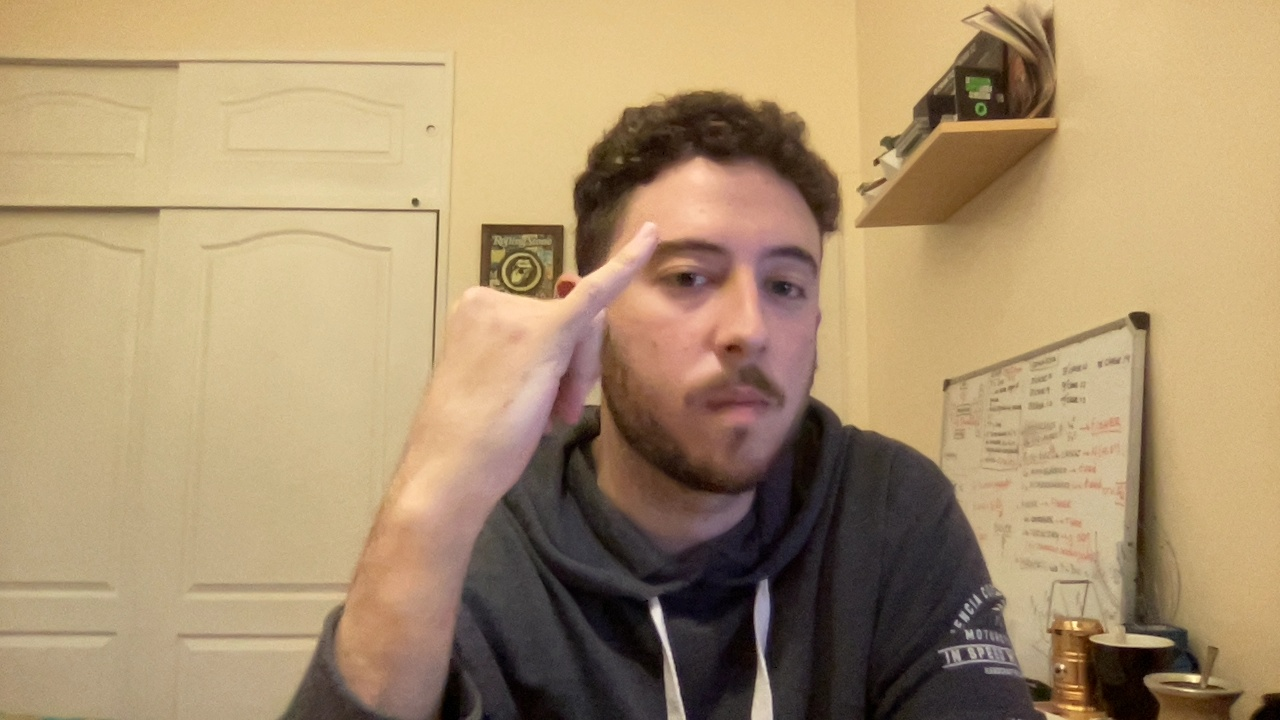menique: (394, 203, 669, 511)
